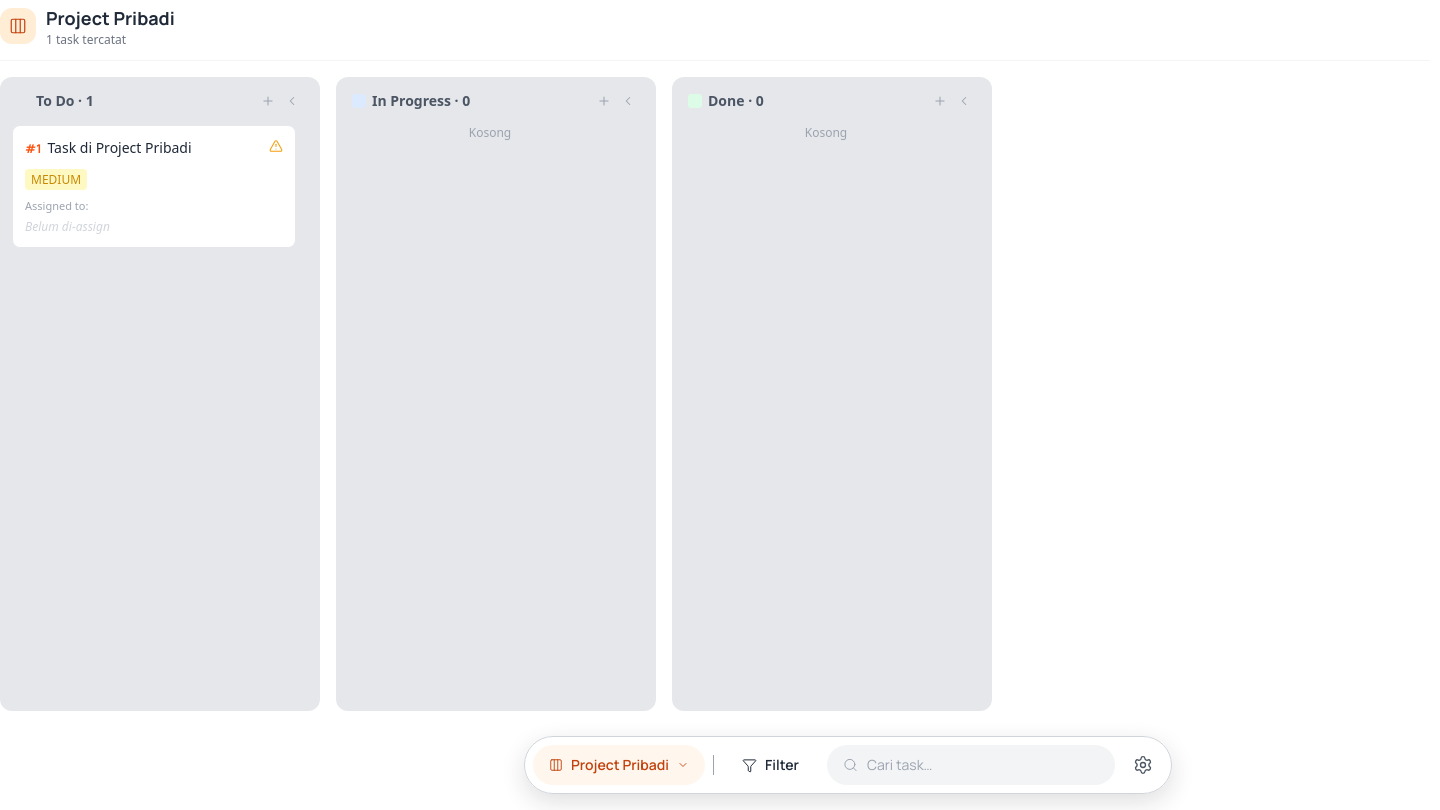
PersonalProjectKanbanView — Project Switcher Dropup & Real-Time Board › menampilkan tombol dropup dengan nama project aktif di floating pill dan membuka menu dropup dengan tombol tambah, searchbar, serta scrollbar (max 3 item)
// Klik tombol dropup untuk membuka menu dari atas
Click the button with aria-label "pilih project pribadi" at [619, 765], box [533,745,705,785]
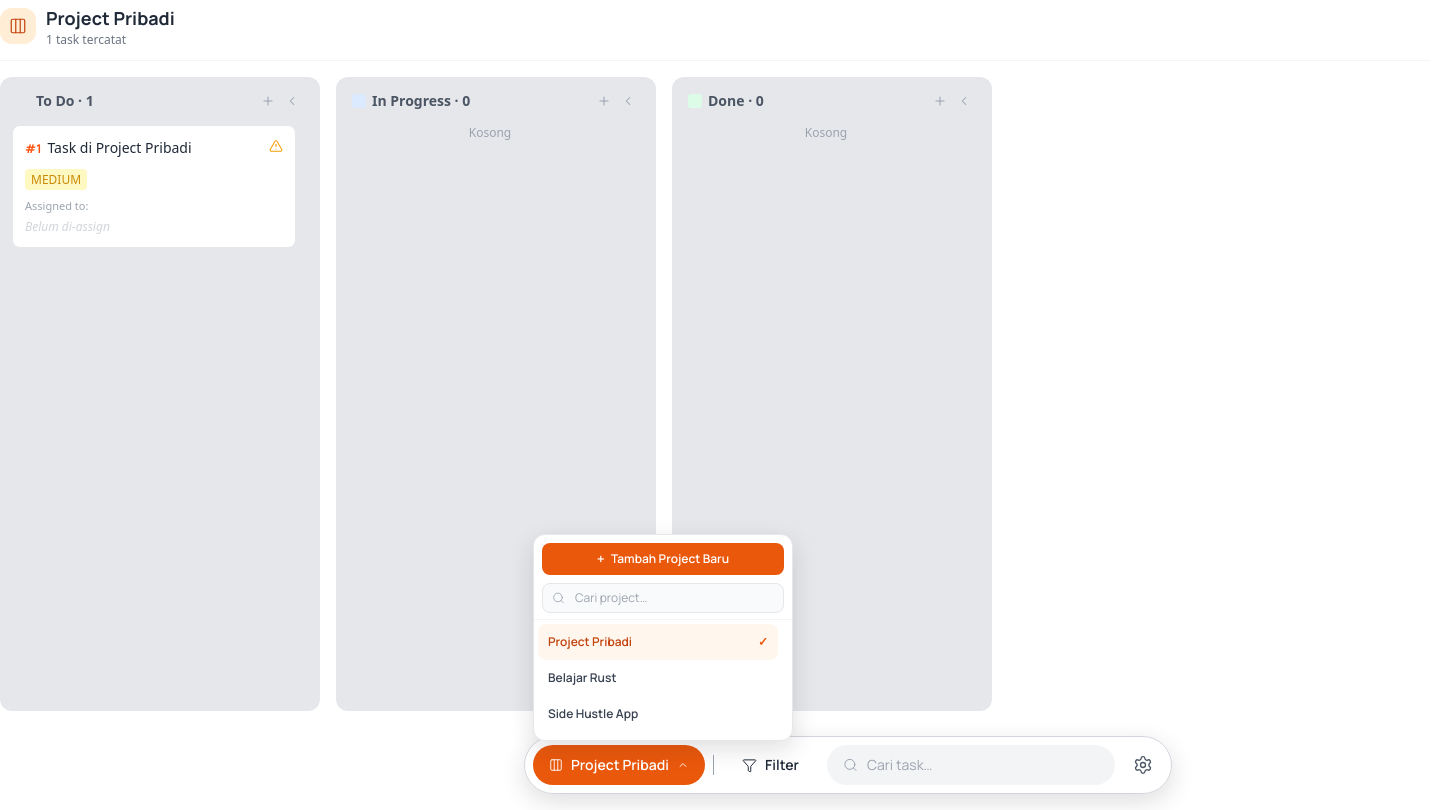
Expected: the menu named "daftar project pribadi" is shown, [533,534,793,741]
Expected: the button "+ Tambah Project Baru" is shown, [542,543,784,575]
Expected: the field with placeholder "Cari project…" is shown
// Uji searchbar untuk memfilter nama project
Type "Rust" into the field with placeholder "Cari project…" at [663, 598], box [542,583,784,613]
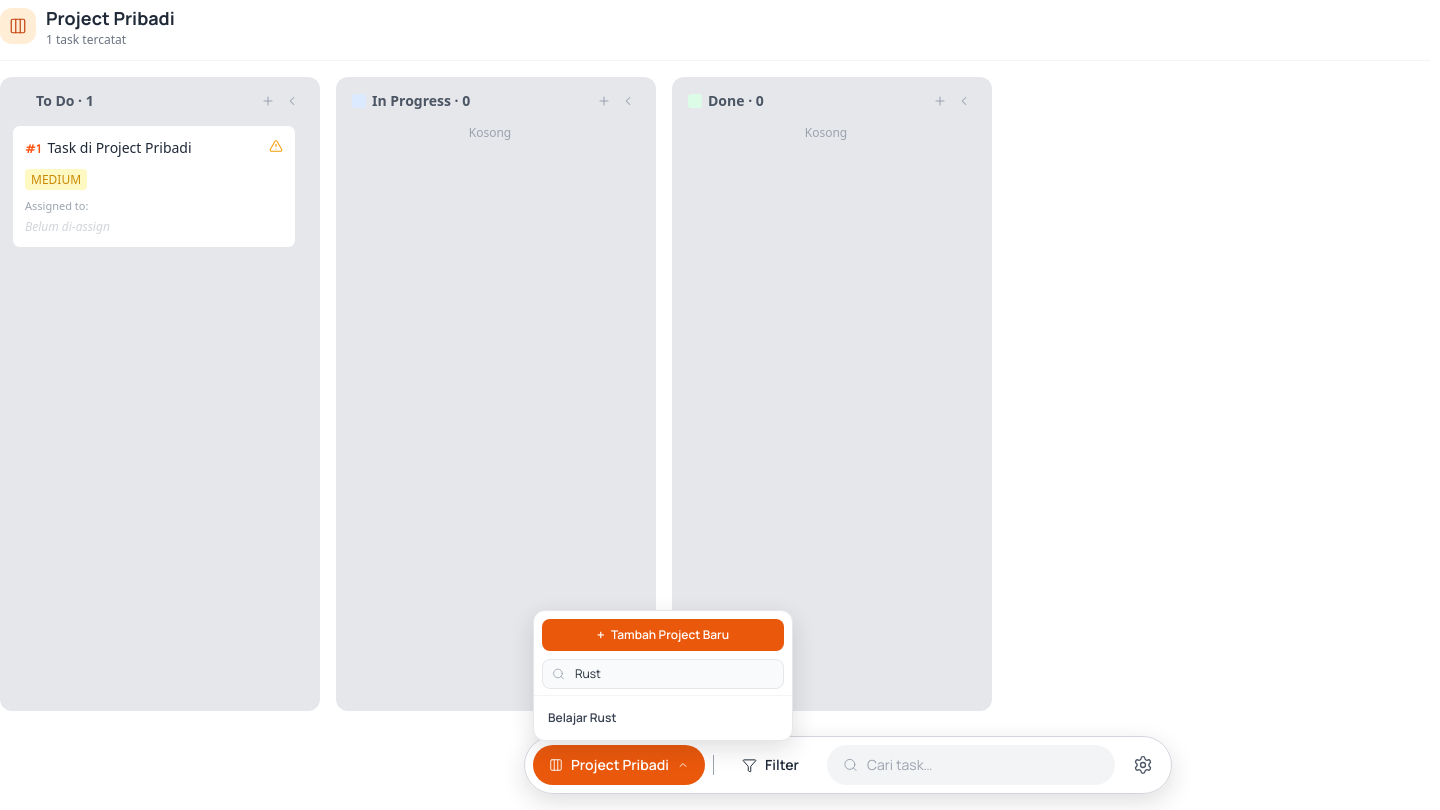
Expected: the menu item reads "Belajar Rust", [538,700,778,736]
Expected: the number of menu items is 1, [538,700,778,736]
